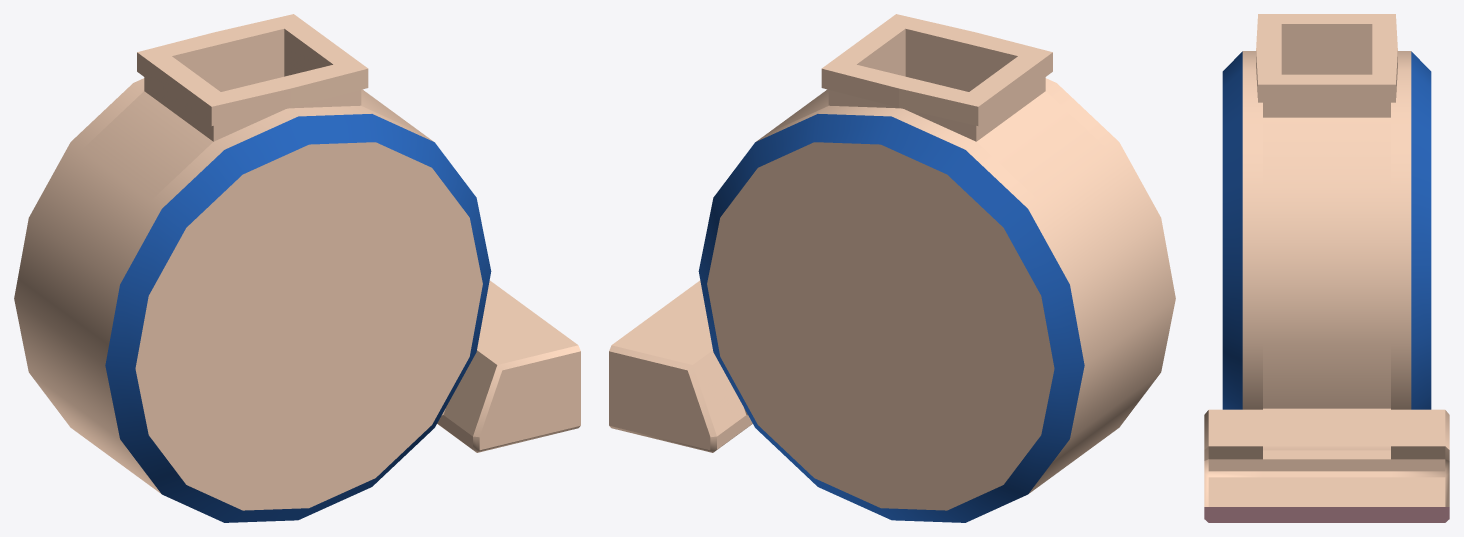
File: ios_magazine.fbx
The picture shows the model from 3 angles, left to right: view 1: azimuth 30°, elevation 25°; view 2: azimuth 150°, elevation 25°; view 3: azimuth 270°, elevation 25°; orthographic projection. The views are drawn at different scales.
Visible parts, largest first — view 1: ios_magazine; view 2: ios_magazine; view 3: ios_magazine.
Part boxes in pixels (left/top/right/bottom): ios_magazine: left=14, top=14, right=580, bottom=522; ios_magazine: left=609, top=14, right=1175, bottom=522; ios_magazine: left=1204, top=14, right=1449, bottom=522.
Size of the model in its own units: 4.65 by 4.16 by 2.35.
